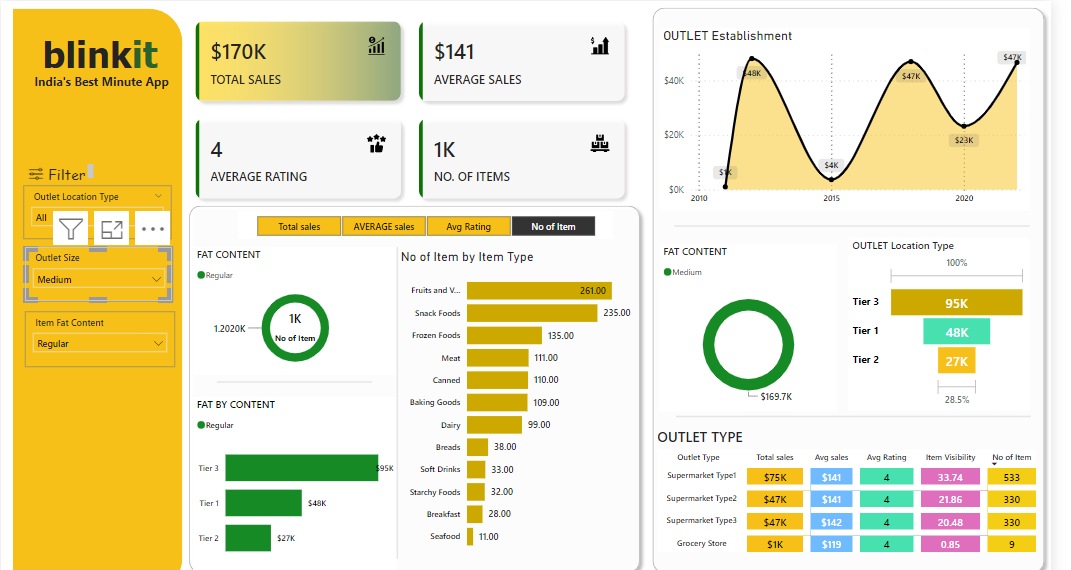

Layout of this report page (visuals, bound fields, positions):
{"tool":"powerbi","page":{"name":"Page 1","canvas":[1400,800],"ordinal":0},"visuals":[{"type":"shape","box":[16.7,10,226,778],"z":0,"group":"g2"},{"type":"cardVisual","fields":{"Data":["BlinkIT Grocery Data.Total sales","BlinkIT Grocery Data.AVERAGE sales","BlinkIT Grocery Data.Avg Rating","BlinkIT Grocery Data.No of Item"]},"box":[242,10,606,270],"z":0},{"type":"shape","box":[242.9,264.3,618.6,507.1],"z":1000},{"type":"textbox","box":[34.5,36.1,195.9,86.7],"z":2000,"group":"g2"},{"type":"slicer","title":"FAT CONTENT","fields":{"Values":["matrix.matrix"]},"box":[315.7,280,500,37.1],"z":2000},{"type":"clusteredBarChart","title":"FAT BY CONTENT","fields":{"Y":["BlinkIT Grocery Data.Total sales"],"Category":["BlinkIT Grocery Data.Outlet Location Type"],"Series":["BlinkIT Grocery Data.Item Fat Content"]},"box":[255.7,527.9,272.1,231.1],"z":3000},{"type":"group","id":"g1","title":"Group 1","box":[255.6,327.8,272.2,170],"z":4000},{"type":"donutChart","title":"FAT CONTENT","fields":{"Y":["BlinkIT Grocery Data.Total sales"],"Category":["BlinkIT Grocery Data.Item Fat Content"]},"box":[255.6,327.8,272.1,170.5],"z":5000,"group":"g1"},{"type":"shape","box":[288.9,487.8,206.7,40],"z":5000},{"type":"group","id":"g2","title":"Group 2","box":[16.7,10,225.6,777.8],"z":6000,"group":"g3"},{"type":"shape","box":[522.9,327.1,12.9,415.7],"z":6000},{"type":"barChart","fields":{"Y":["BlinkIT Grocery Data.Total sales"],"Category":["BlinkIT Grocery Data.Item Type"]},"box":[527.1,330,320,412.9],"z":7000},{"type":"cardVisual","title":"FAT CONTENT","fields":{"Data":["BlinkIT Grocery Data.Total sales"]},"box":[339.2,391.7,104.9,83.6],"z":7000,"group":"g1"},{"type":"group","id":"g3","title":"Group 3","box":[16.7,10,230,777.8],"z":8000},{"type":"shape","box":[860,0,540,771.7],"z":9000},{"type":"textbox","box":[22.7,89.8,224,44],"z":9001,"group":"g3"},{"type":"lineChart","title":"OUTLET Establishment ","fields":{"Y":["BlinkIT Grocery Data.Total sales"],"Category":["BlinkIT Grocery Data.Outlet Establishment Year"]},"box":[878.3,36.7,493.3,243.3],"z":10000},{"type":"shape","box":[898.3,280,473.3,40],"z":11000},{"type":"donutChart","title":"FAT CONTENT","fields":{"Series":["BlinkIT Grocery Data.Outlet Size"],"Y":["BlinkIT Grocery Data.Total sales"]},"box":[878.3,323.3,236.7,223.3],"z":12000},{"type":"funnel","title":"OUTLET Location Type","fields":{"Category":["BlinkIT Grocery Data.Outlet Location Type"],"Y":["Sum(BlinkIT Grocery Data.Sales)"]},"box":[1130,316.7,241.7,230],"z":13000},{"type":"pivotTable","title":"      OUTLET TYPE","fields":{"Values":["BlinkIT Grocery Data.Total sales","BlinkIT Grocery Data.AVERAGE sales","BlinkIT Grocery Data.Avg Rating","Sum(BlinkIT Grocery Data.Item Visibility)","BlinkIT Grocery Data.No of Item"],"Rows":["BlinkIT Grocery Data.Outlet Type"]},"box":[870,568,528,186],"z":14000},{"type":"shape","box":[899.1,534.5,472.7,40],"z":14001},{"type":"slicer","fields":{"Values":["BlinkIT Grocery Data.Outlet Location Type"]},"box":[30.9,245,197.5,71.2],"z":14002,"group":"g3"},{"type":"slicer","fields":{"Values":["BlinkIT Grocery Data.Outlet Size"]},"box":[31.2,327.5,197.5,72.5],"z":14002},{"type":"slicer","fields":{"Values":["BlinkIT Grocery Data.Item Fat Content"]},"box":[31.2,413.8,200,73.8],"z":14003},{"type":"image","box":[27.8,212.2,36.7,37.8],"z":14004},{"type":"textbox","box":[53.8,211.2,122.5,41.2],"z":14005}]}

Visuals, with their boxes on the page's 1400x800 design canvas (x1, y1, x2, y2). These are canvas units, not pixel positions in the 1071x570 screenshot, which may show the page scaled, cropped or inside an application window:
shape: BBox(17, 10, 243, 788)
cardVisual - BlinkIT Grocery Data.Total sales x BlinkIT Grocery Data.AVERAGE sales: BBox(242, 10, 848, 280)
shape: BBox(243, 264, 862, 771)
textbox: BBox(34, 36, 230, 123)
"FAT CONTENT" slicer: BBox(316, 280, 816, 317)
"FAT BY CONTENT" clusteredBarChart: BBox(256, 528, 528, 759)
"Group 1" group: BBox(256, 328, 528, 498)
"FAT CONTENT" donutChart: BBox(256, 328, 528, 498)
shape: BBox(289, 488, 496, 528)
"Group 2" group: BBox(17, 10, 242, 788)
shape: BBox(523, 327, 536, 743)
barChart - BlinkIT Grocery Data.Total sales x BlinkIT Grocery Data.Item Type: BBox(527, 330, 847, 743)
"FAT CONTENT" cardVisual: BBox(339, 392, 444, 475)
"Group 3" group: BBox(17, 10, 247, 788)
shape: BBox(860, 0, 1400, 772)
textbox: BBox(23, 90, 247, 134)
"OUTLET Establishment " lineChart: BBox(878, 37, 1372, 280)
shape: BBox(898, 280, 1372, 320)
"FAT CONTENT" donutChart: BBox(878, 323, 1115, 547)
"OUTLET Location Type" funnel: BBox(1130, 317, 1372, 547)
"      OUTLET TYPE" pivotTable: BBox(870, 568, 1398, 754)
shape: BBox(899, 534, 1372, 574)
slicer - BlinkIT Grocery Data.Outlet Location Type: BBox(31, 245, 228, 316)
slicer - BlinkIT Grocery Data.Outlet Size: BBox(31, 328, 229, 400)
slicer - BlinkIT Grocery Data.Item Fat Content: BBox(31, 414, 231, 488)
image: BBox(28, 212, 64, 250)
textbox: BBox(54, 211, 176, 252)
